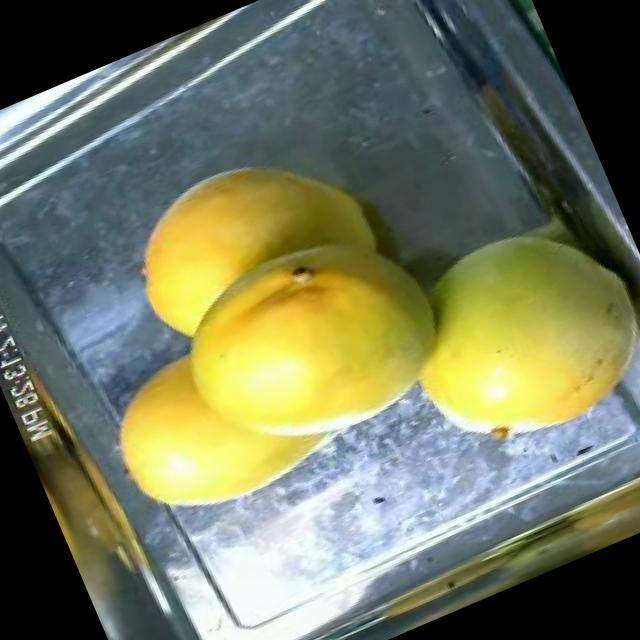fruit: (55, 190, 492, 548), (361, 171, 640, 485), (94, 100, 409, 358), (507, 399, 640, 572)
